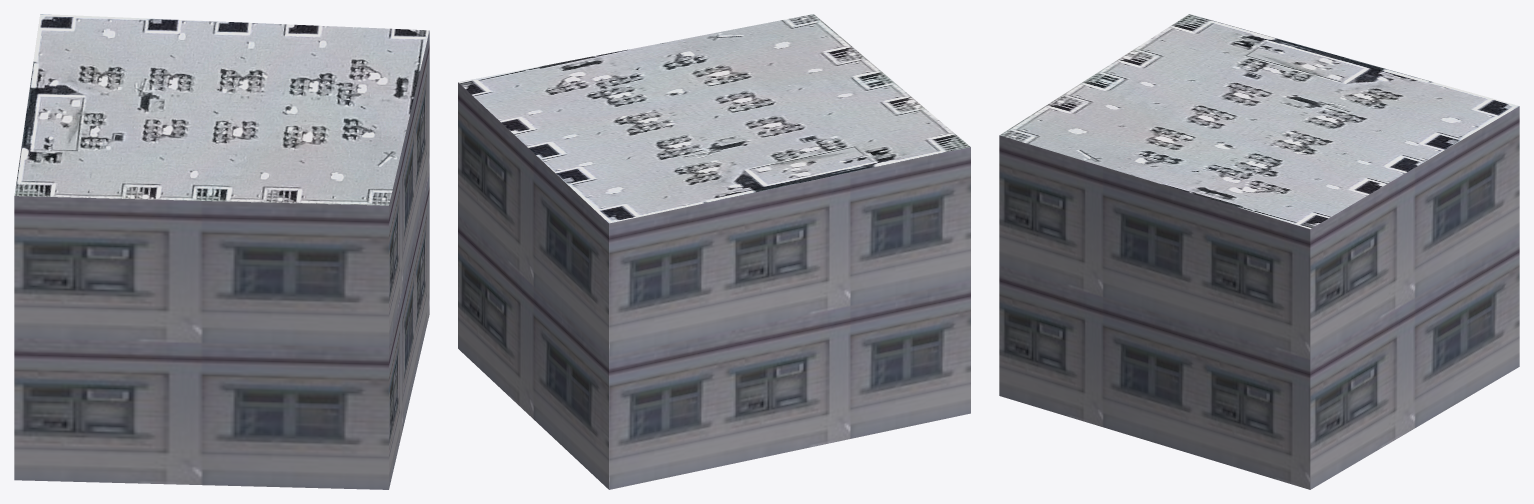
The model's file is ResTex__3858.fbx.
The picture shows the model from 3 angles, left to right: view 1: azimuth 30°, elevation 25°; view 2: azimuth 150°, elevation 25°; view 3: azimuth 270°, elevation 25°; orthographic projection. The views are drawn at different scales.
Parts seen in each view (by area): view 1: CityEngineMaterial_1_m, CityEngineMaterial_8_m; view 2: CityEngineMaterial_1_m, CityEngineMaterial_8_m; view 3: CityEngineMaterial_1_m, CityEngineMaterial_8_m.
Part boxes in pixels (x1,y1,x2,y2): CityEngineMaterial_1_m: (14, 31, 429, 489); CityEngineMaterial_8_m: (14, 14, 429, 205); CityEngineMaterial_1_m: (458, 82, 970, 489); CityEngineMaterial_8_m: (458, 14, 970, 223); CityEngineMaterial_1_m: (999, 106, 1519, 489); CityEngineMaterial_8_m: (1000, 14, 1519, 229).
Bounding box in the file's own units: 10.63 × 6 × 10.85.
2 materials, 2 textured.
